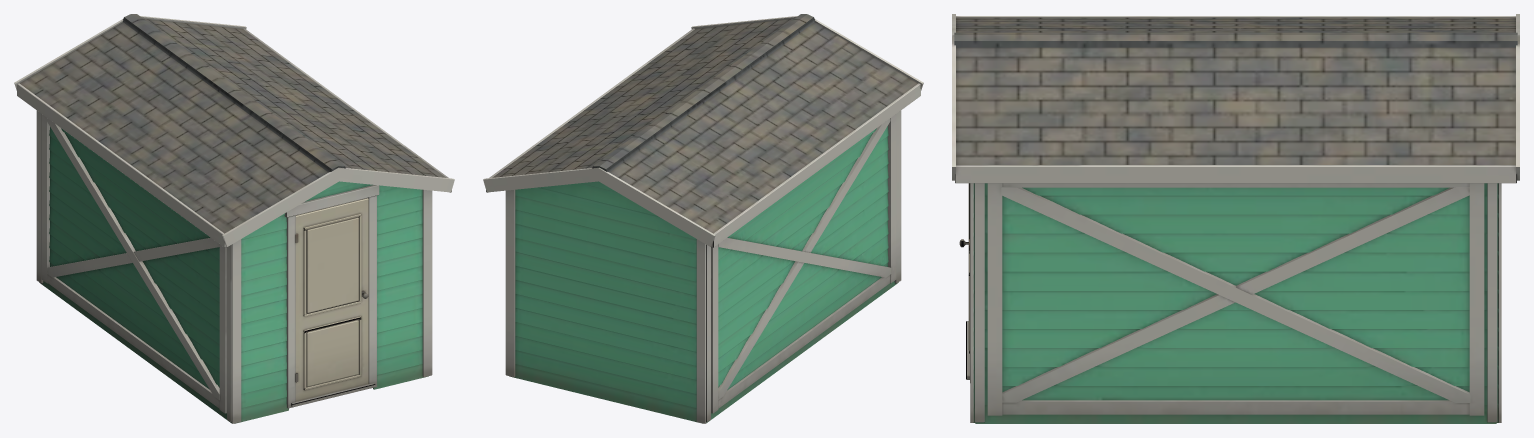
The model's file is shed_green.glb.
The picture shows the model from 3 angles, left to right: view 1: azimuth 30°, elevation 25°; view 2: azimuth 150°, elevation 25°; view 3: azimuth 270°, elevation 25°; orthographic projection. The views are drawn at different scales.
Parts seen in each view (by area): view 1: shed_green; view 2: shed_green; view 3: shed_green.
Boxes of the visible parts, x1,y1,x2,y2 form: shed_green: [14, 14, 454, 423]; shed_green: [483, 14, 923, 423]; shed_green: [952, 14, 1519, 423].
Bounding box in the file's own units: 2.5 × 2.47 × 3.92.
3 materials, 3 textured.
